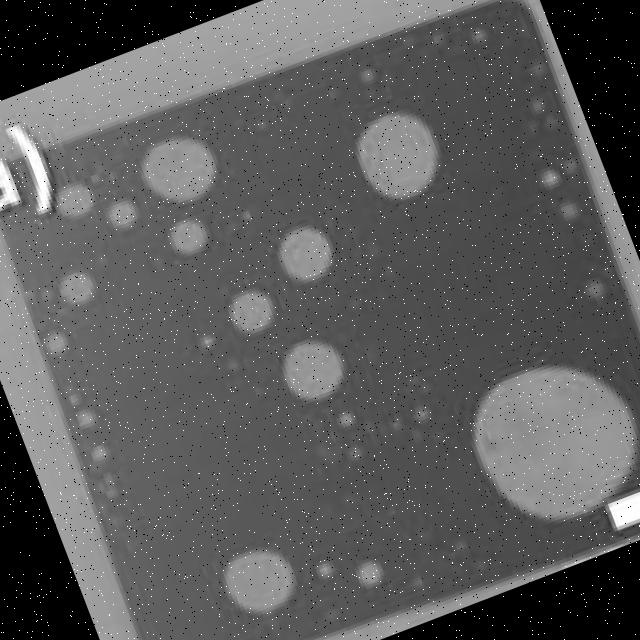chip: (0, 0, 640, 640)
void: (471, 362, 640, 518), (353, 110, 444, 197), (137, 135, 222, 201), (221, 547, 300, 614), (280, 337, 348, 401), (272, 225, 336, 281), (228, 288, 277, 333), (168, 218, 210, 256), (53, 181, 96, 218), (57, 268, 97, 307), (106, 196, 139, 228), (355, 556, 382, 588), (44, 326, 69, 357), (75, 404, 101, 430)
